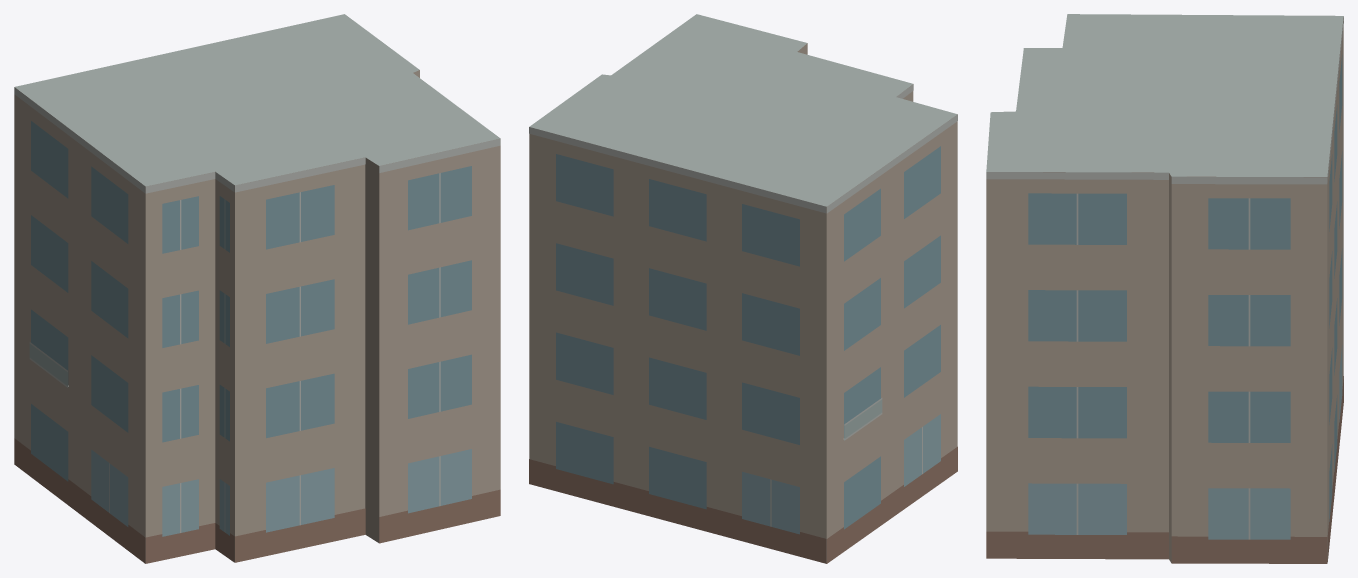
File: survey-upis-32966658.glb
The picture shows the model from 3 angles, left to right: view 1: azimuth 30°, elevation 25°; view 2: azimuth 150°, elevation 25°; view 3: azimuth 270°, elevation 25°; orthographic projection. The views are drawn at different scales.
Visible parts, largest first — view 1: survey-upis-32966658.tmp; view 2: survey-upis-32966658.tmp; view 3: survey-upis-32966658.tmp.
Boxes of the visible parts, box(x1,y1,x2,y2) form: survey-upis-32966658.tmp: box(14, 14, 500, 563); survey-upis-32966658.tmp: box(529, 14, 957, 563); survey-upis-32966658.tmp: box(986, 14, 1343, 563).
Size of the model in its own units: 11.59 by 12.8 by 10.73.
